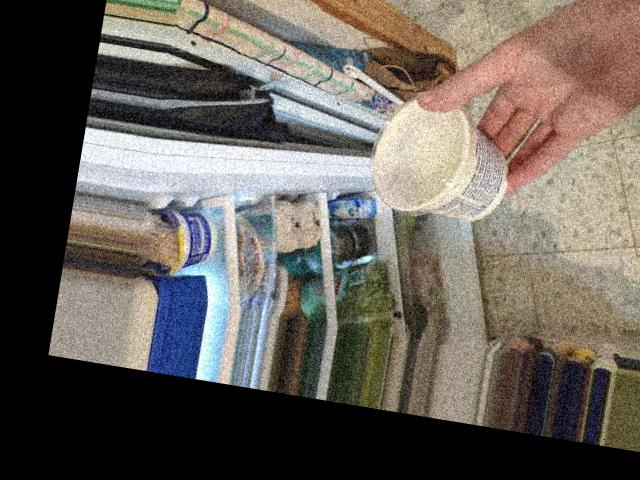cotage: (383, 90, 513, 220)
